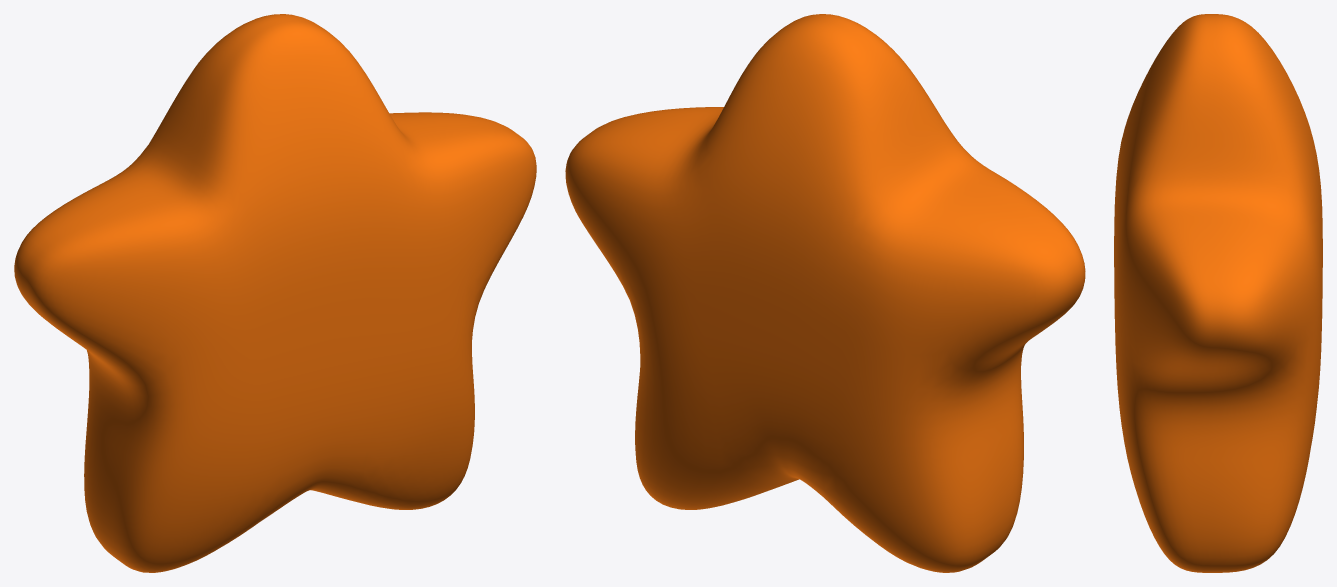
File: star.glb
3 renders of one model, left to right at view 1: azimuth 30°, elevation 25°; view 2: azimuth 150°, elevation 25°; view 3: azimuth 270°, elevation 25°, orthographic. The views are drawn at different scales.
Parts seen in each view (by area): view 1: Cube.058; view 2: Cube.058; view 3: Cube.058.
Part boxes in pixels (x1=…): Cube.058: x1=14, y1=14, x2=536, y2=572; Cube.058: x1=565, y1=14, x2=1085, y2=572; Cube.058: x1=1114, y1=14, x2=1322, y2=572.
Size of the model in its own units: 6.03 by 5.83 by 2.27.
